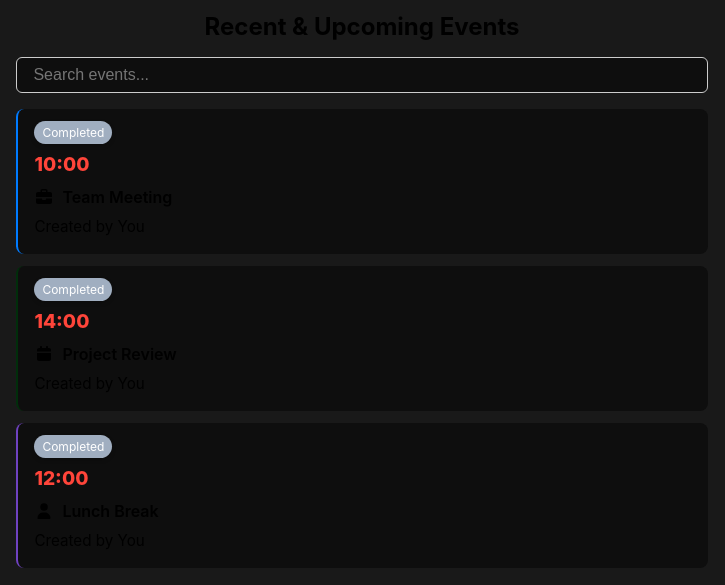
Test: ListView › should filter events based on search input
Note: Search for "Team"
Type "Team" into the field with placeholder "Search events..." at (362, 75), box [16,57,708,93]
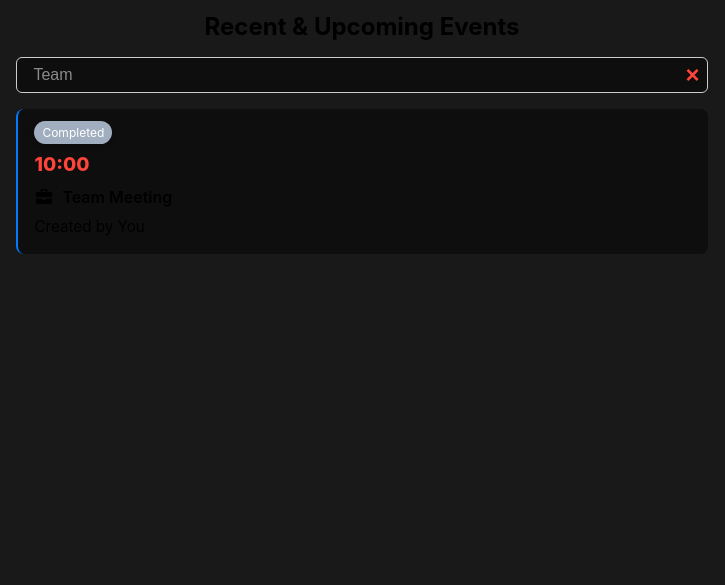
Expected: the heading "Project Review" is gone
Expected: the heading "Lunch Break" is gone
